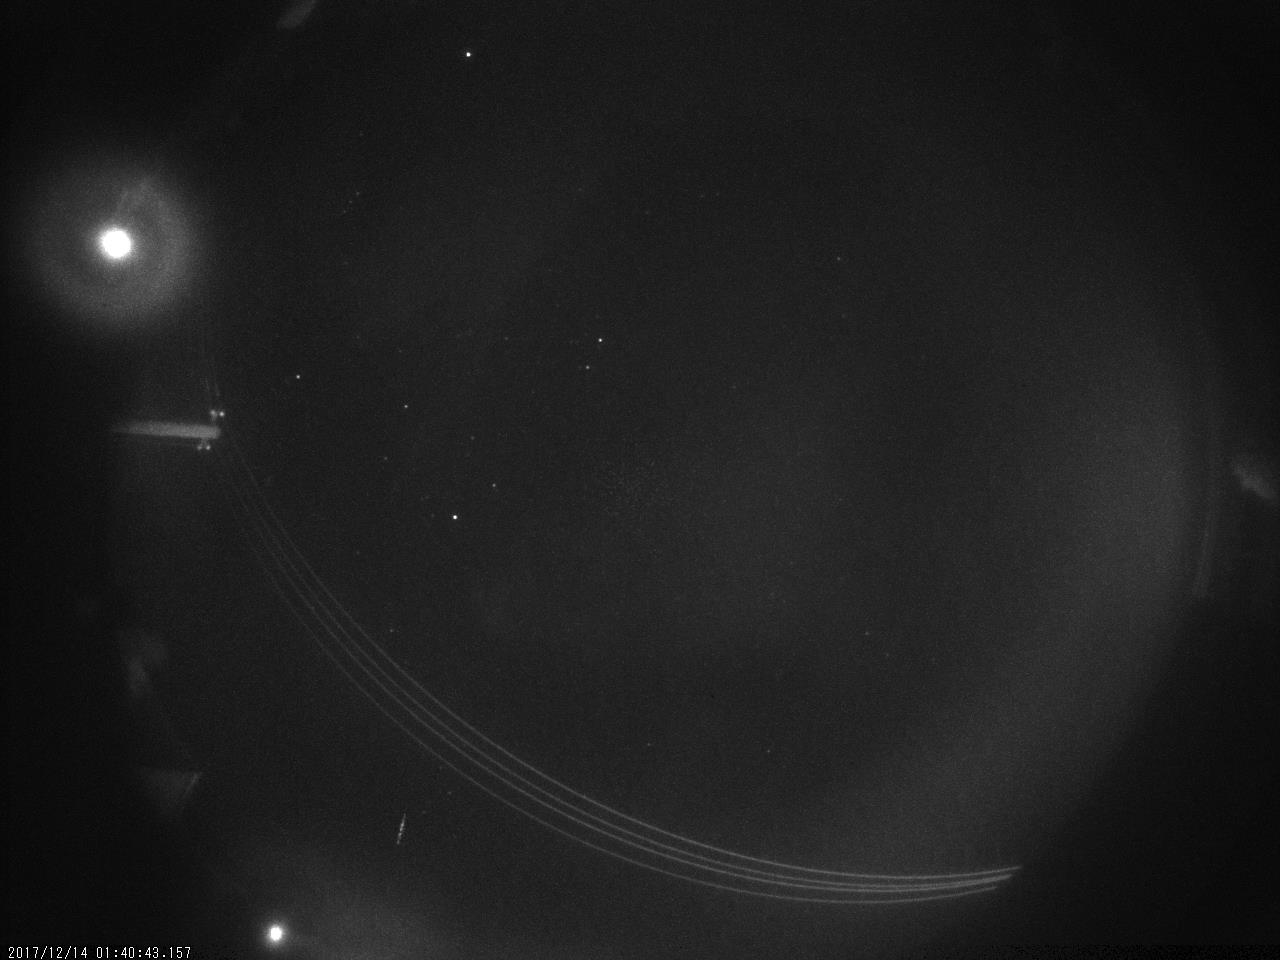meteor: (364, 804, 441, 865)
